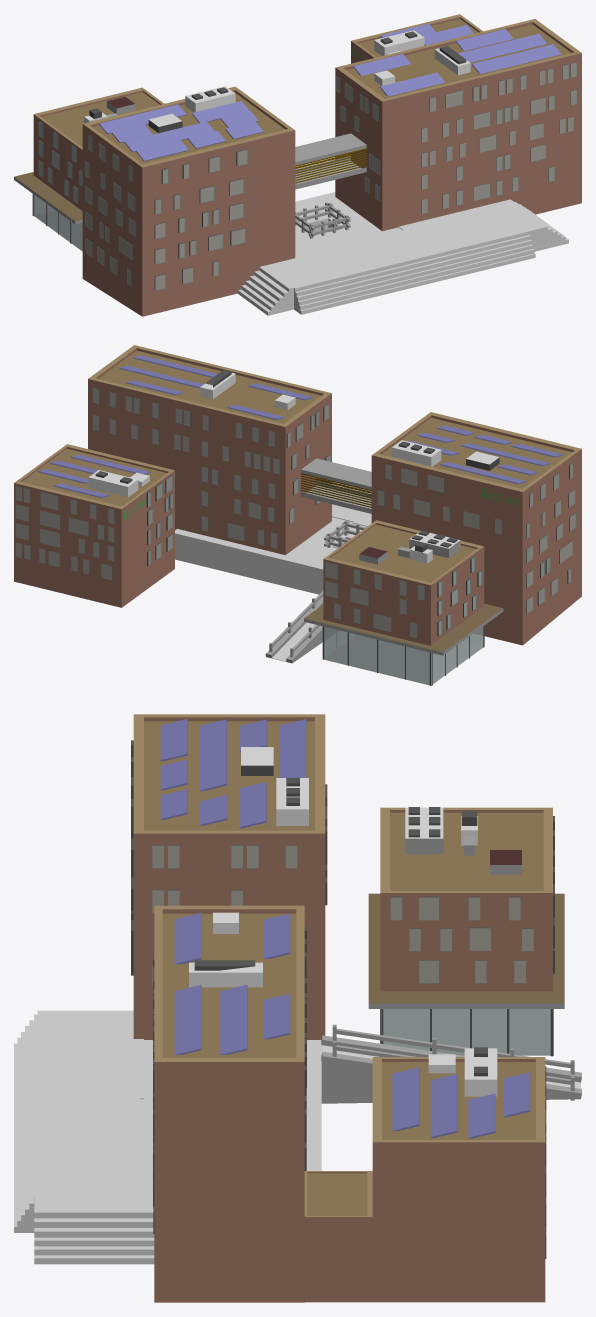
The model's file is EDITH SAXION.fbx.
3 renders of one model, top to bottom at view 1: azimuth 30°, elevation 25°; view 2: azimuth 150°, elevation 25°; view 3: azimuth 270°, elevation 25°, orthographic. The views are drawn at different scales.
Parts seen in each view (by area): view 1: pCube748; view 2: pCube748; view 3: pCube748.
Boxes of the visible parts, x1,y1,x2,y2 form: pCube748: [14, 14, 581, 316]; pCube748: [14, 345, 581, 685]; pCube748: [14, 714, 581, 1302].
Bounding box in the file's own units: 2667 × 943 × 1831.
